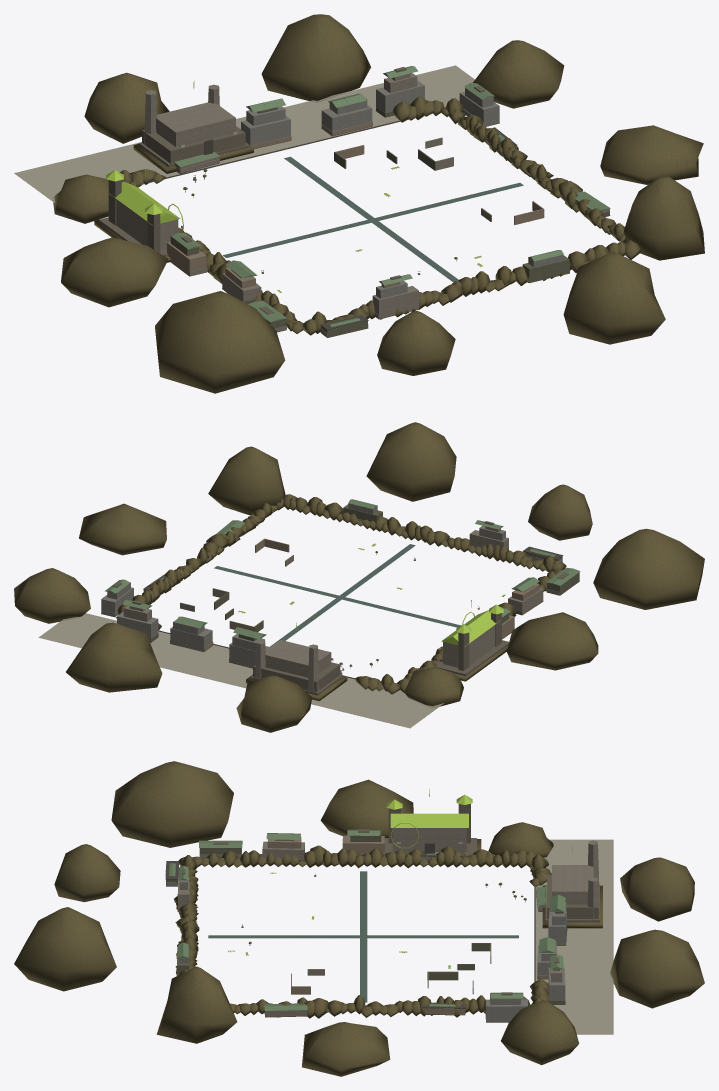
File: tanada-lod2.glb
3 renders of one model, top to bottom at view 1: azimuth 30°, elevation 25°; view 2: azimuth 150°, elevation 25°; view 3: azimuth 270°, elevation 25°, orthographic. The views are drawn at different scales.
Visible parts, largest first — view 1: HB_tanada_LOD2_terrain, HB_tanada_LOD2_water, HB_tanada_LOD2_wall_cool, HB_tanada_LOD2_LANDMARK_0_wall, HB_tanada_LOD2_roof, HB_tanada_LOD2_wall, HB_tanada_LOD2_road, HB_tanada_LOD2_wall_warm, HB_tanada_LOD2_wall_weathered, HB_tanada_LOD2_LANDMARK_0_wall_alt, HB_tanada_LOD2_LANDMARK_1_accent, HB_tanada_LOD2_LANDMARK_1_wall_alt (+3 smaller); view 2: HB_tanada_LOD2_terrain, HB_tanada_LOD2_water, HB_tanada_LOD2_wall_cool, HB_tanada_LOD2_LANDMARK_0_wall, HB_tanada_LOD2_roof, HB_tanada_LOD2_road, HB_tanada_LOD2_wall, HB_tanada_LOD2_LANDMARK_1_wall_alt, HB_tanada_LOD2_wall_weathered, HB_tanada_LOD2_LANDMARK_0_wall_alt, HB_tanada_LOD2_wall_warm, HB_tanada_LOD2_LANDMARK_1_wall (+1 smaller); view 3: HB_tanada_LOD2_terrain, HB_tanada_LOD2_water, HB_tanada_LOD2_roof, HB_tanada_LOD2_wall_cool, HB_tanada_LOD2_road, HB_tanada_LOD2_LANDMARK_0_wall, HB_tanada_LOD2_LANDMARK_1_wall, HB_tanada_LOD2_wall, HB_tanada_LOD2_LANDMARK_1_accent, HB_tanada_LOD2_wall_weathered, HB_tanada_LOD2_wall_warm, HB_tanada_LOD2_LANDMARK_0_wall_alt (+2 smaller).
Boxes of the visible parts, x1=… form: HB_tanada_LOD2_terrain: x1=53, y1=14, x2=704, y2=393; HB_tanada_LOD2_water: x1=14, y1=65, x2=474, y2=202; HB_tanada_LOD2_wall_cool: x1=231, y1=80, x2=569, y2=336; HB_tanada_LOD2_LANDMARK_0_wall: x1=144, y1=84, x2=235, y2=146; HB_tanada_LOD2_roof: x1=171, y1=66, x2=610, y2=329; HB_tanada_LOD2_wall: x1=175, y1=73, x2=609, y2=331; HB_tanada_LOD2_road: x1=223, y1=156, x2=523, y2=282; HB_tanada_LOD2_wall_warm: x1=167, y1=122, x2=544, y2=288; HB_tanada_LOD2_wall_weathered: x1=170, y1=107, x2=609, y2=337; HB_tanada_LOD2_LANDMARK_0_wall_alt: x1=138, y1=126, x2=248, y2=167; HB_tanada_LOD2_LANDMARK_1_accent: x1=106, y1=170, x2=183, y2=232; HB_tanada_LOD2_LANDMARK_1_wall_alt: x1=99, y1=180, x2=168, y2=256; HB_tanada_LOD2_terrain: x1=14, y1=422, x2=704, y2=732; HB_tanada_LOD2_water: x1=38, y1=613, x2=444, y2=728; HB_tanada_LOD2_wall_cool: x1=101, y1=503, x2=562, y2=667; HB_tanada_LOD2_LANDMARK_0_wall: x1=255, y1=640, x2=331, y2=692; HB_tanada_LOD2_roof: x1=105, y1=499, x2=580, y2=671; HB_tanada_LOD2_road: x1=214, y1=544, x2=460, y2=646; HB_tanada_LOD2_wall: x1=123, y1=527, x2=559, y2=674; HB_tanada_LOD2_LANDMARK_1_wall_alt: x1=435, y1=613, x2=509, y2=676; HB_tanada_LOD2_wall_weathered: x1=151, y1=504, x2=579, y2=642; HB_tanada_LOD2_LANDMARK_0_wall_alt: x1=250, y1=662, x2=342, y2=695; HB_tanada_LOD2_wall_warm: x1=143, y1=526, x2=539, y2=661; HB_tanada_LOD2_LANDMARK_1_wall: x1=443, y1=625, x2=495, y2=667; HB_tanada_LOD2_terrain: x1=14, y1=761, x2=704, y2=1076; HB_tanada_LOD2_water: x1=535, y1=839, x2=613, y2=1034; HB_tanada_LOD2_roof: x1=165, y1=829, x2=565, y2=1010; HB_tanada_LOD2_wall_cool: x1=166, y1=839, x2=566, y2=1021; HB_tanada_LOD2_road: x1=208, y1=871, x2=518, y2=1002; HB_tanada_LOD2_LANDMARK_0_wall: x1=552, y1=840, x2=599, y2=919; HB_tanada_LOD2_LANDMARK_1_wall: x1=392, y1=828, x2=466, y2=852; HB_tanada_LOD2_wall: x1=178, y1=841, x2=562, y2=1016; HB_tanada_LOD2_LANDMARK_1_accent: x1=386, y1=789, x2=472, y2=848; HB_tanada_LOD2_wall_weathered: x1=166, y1=830, x2=565, y2=1016; HB_tanada_LOD2_wall_warm: x1=267, y1=835, x2=565, y2=1014; HB_tanada_LOD2_LANDMARK_0_wall_alt: x1=545, y1=874, x2=599, y2=922.
Size of the model in its own units: 604 by 66 by 628.
Materials: 13 (11 with a texture image).
